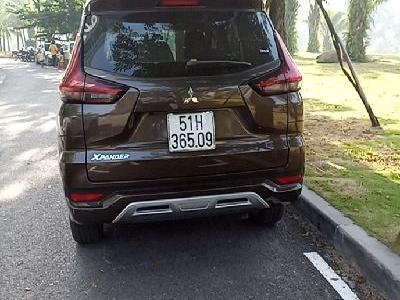lisence: (165, 110, 215, 153)
